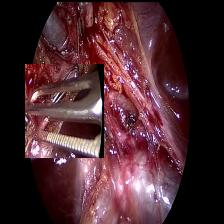Bipolar: (24, 63, 103, 157)
